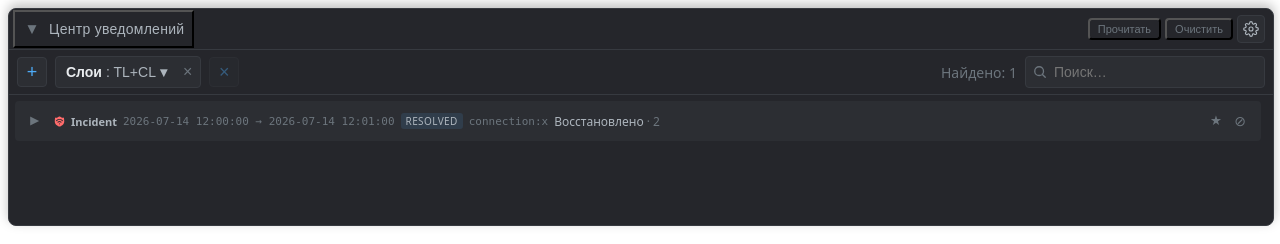
Scenario: NotificationDock › renders Thread container without severity icon on header; expands Entry stack
Expected: the text "Incident" is shown, x1=71 y1=114 x2=117 y2=128
Expected: the text "Восстановлено" is shown, x1=554 y1=112 x2=644 y2=130
Click the button named "Раскрыть нить".
click(36, 121)  # box x1=24 y1=109 x2=48 y2=133
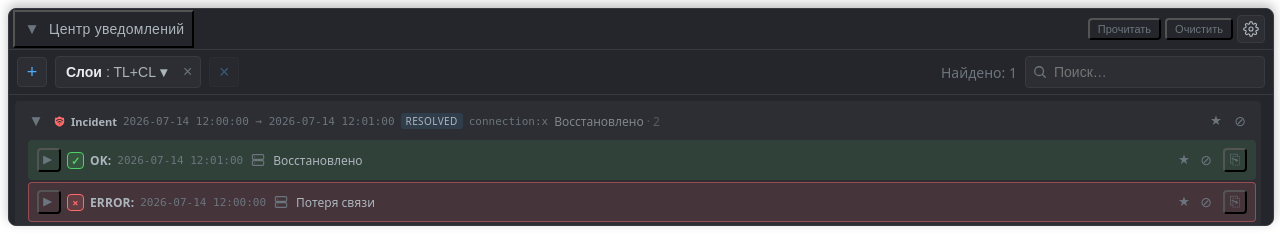
Expected: the picture named "Incident (break)" is shown, x1=54 y1=116 x2=65 y2=126
Now the text "Потеря связи" is shown, box x1=296 y1=194 x2=375 y2=210
